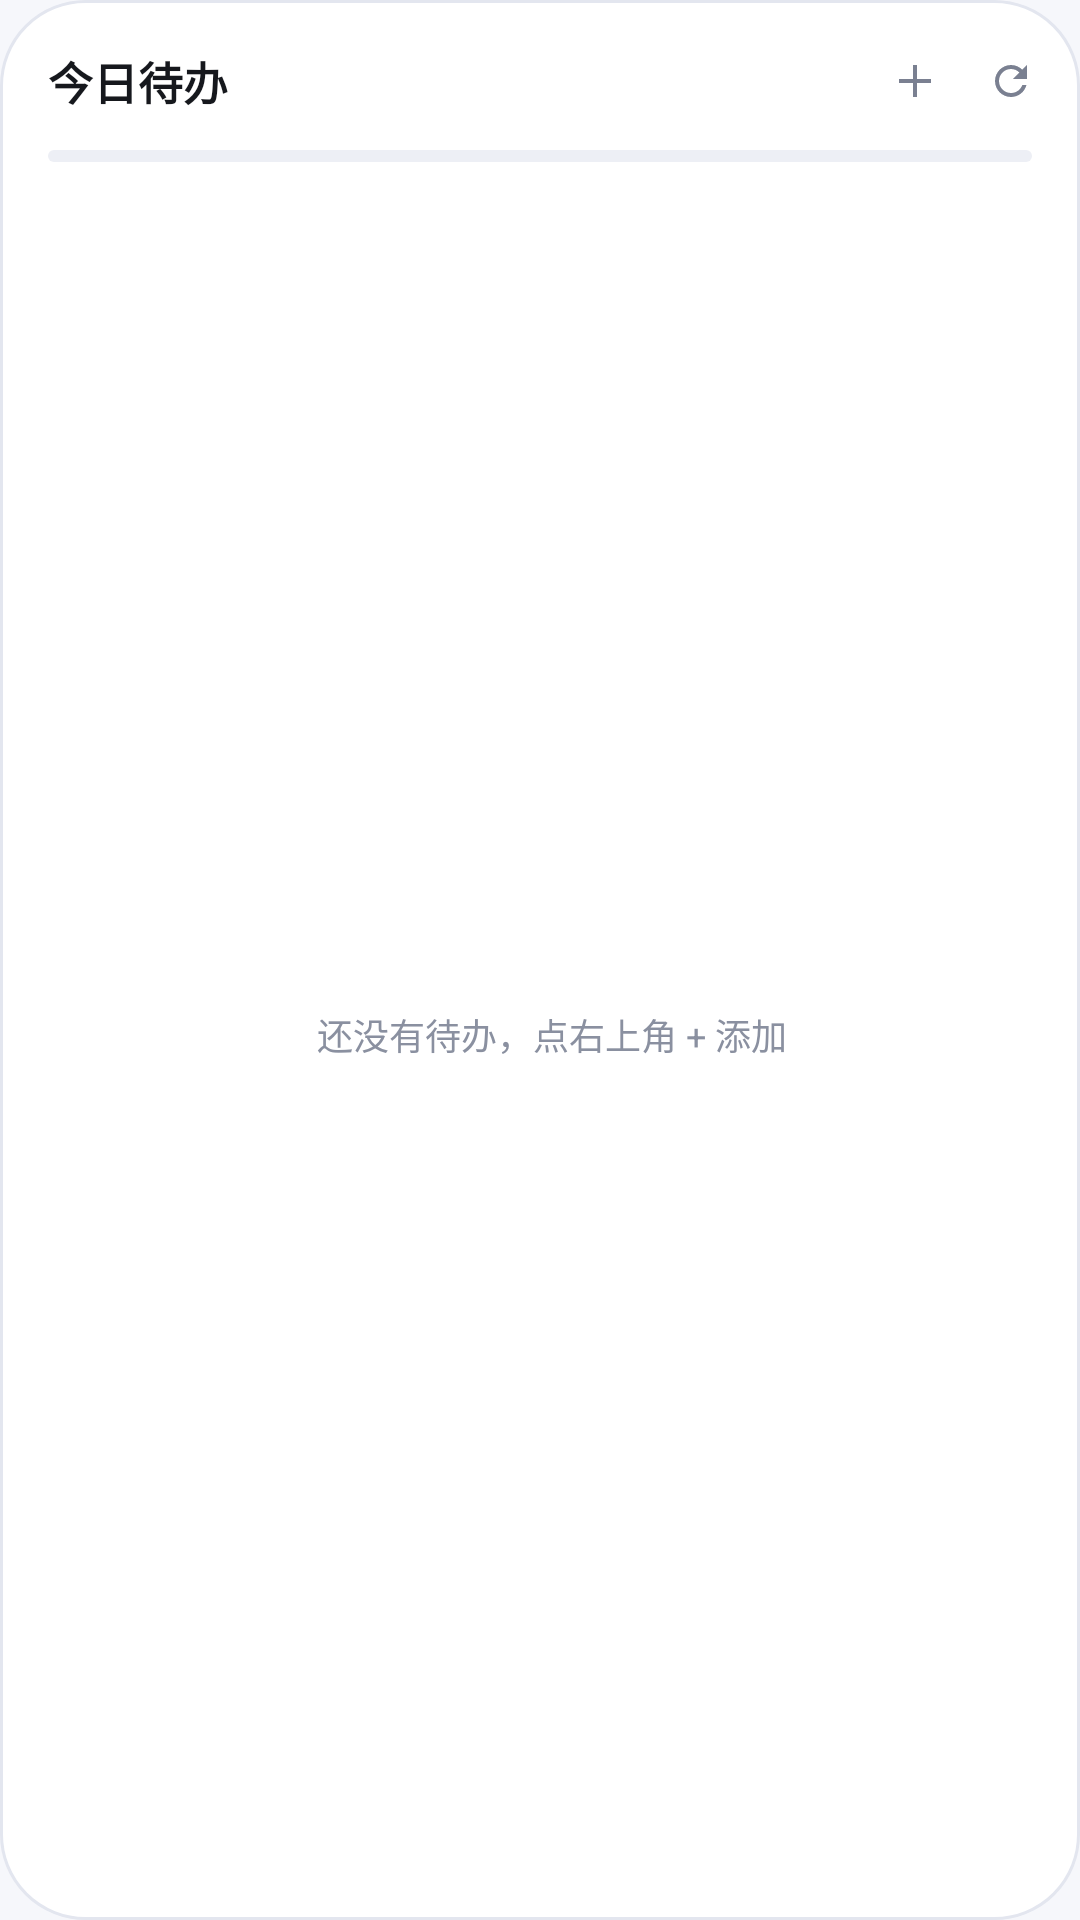

Where icons sit on this 1080 x 1920 app screen, as (x1, y1, x2, y2):
刷新: (995, 65, 1027, 97)
添加待办: (899, 65, 931, 97)
